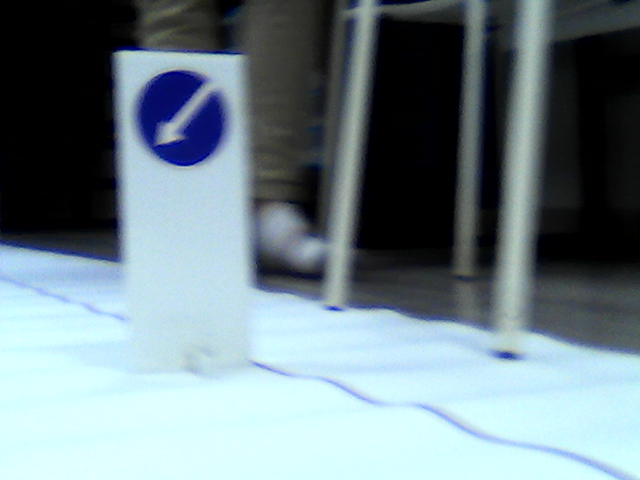prep: (137, 64, 228, 165)
